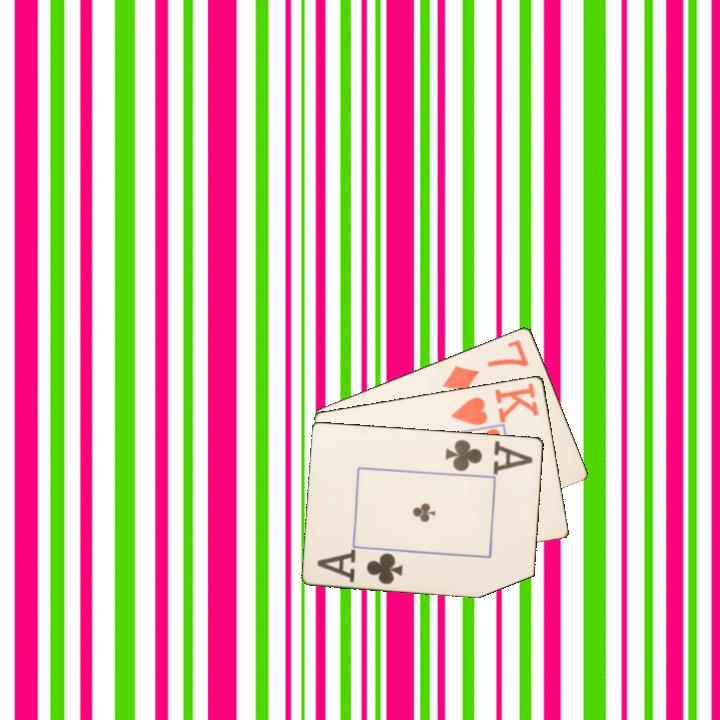7d: (439, 335, 532, 395)
Ac: (442, 435, 536, 476), (314, 546, 406, 587)
Kh: (448, 379, 542, 428)
